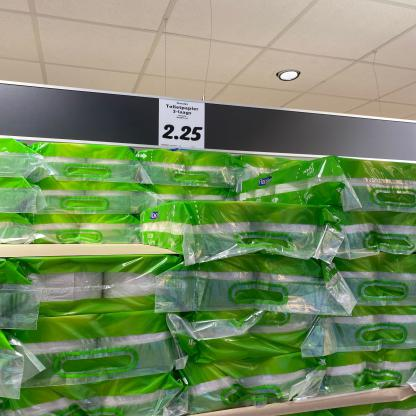prtg: (159, 100, 206, 150)
